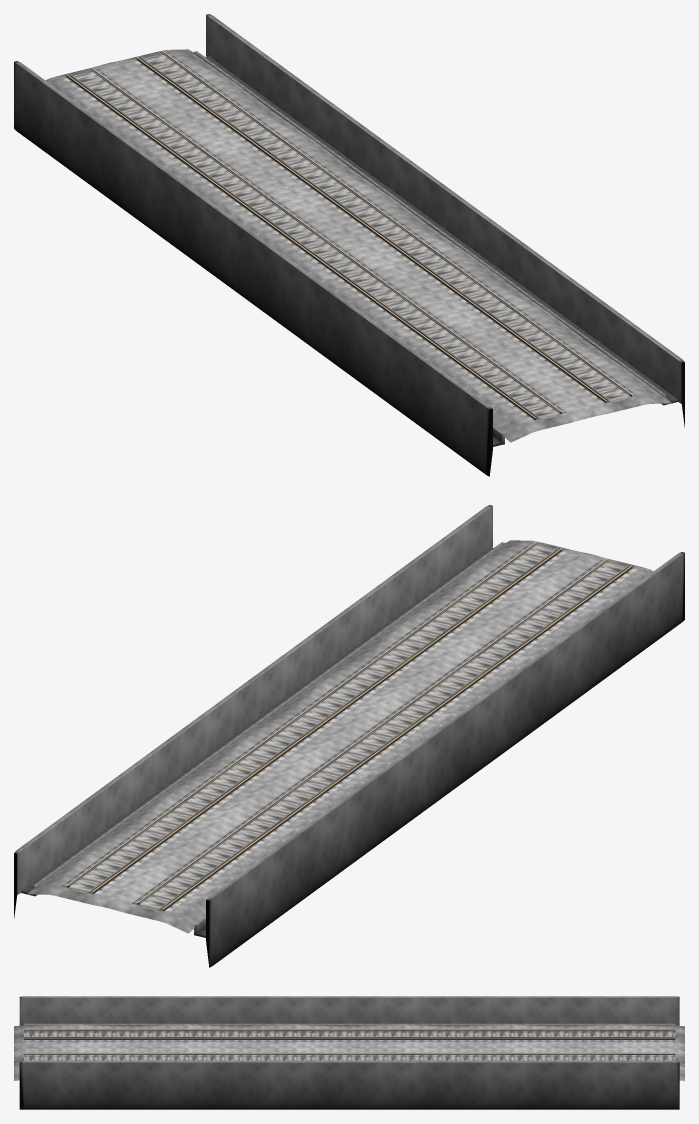
The model's file is NK_2RAIL_150_WALL.glb.
The picture shows the model from 3 angles, top to bottom: view 1: azimuth 30°, elevation 25°; view 2: azimuth 150°, elevation 25°; view 3: azimuth 270°, elevation 25°; orthographic projection. The views are drawn at different scales.
Parts seen in each view (by area): view 1: Jari_All3, R000_RG_R3, R000_RG_L3; view 2: Jari_All3, R000_RG_R3, R000_RG_L3; view 3: Jari_All3, R000_RG_R3, R000_RG_L3.
Boxes of the visible parts, x1,y1,x2,y2 form: Jari_All3: (14,14,684,476); R000_RG_R3: (68,56,608,418); R000_RG_L3: (89,51,629,412); Jari_All3: (14,505,684,967); R000_RG_R3: (89,547,630,909); R000_RG_L3: (68,542,609,904); Jari_All3: (14,996,684,1109); R000_RG_R3: (24,1030,675,1054); R000_RG_L3: (24,1037,675,1061).
Bounding box in the file's own units: 36.23 × 11.93 × 155.
7 materials, 6 textured.
